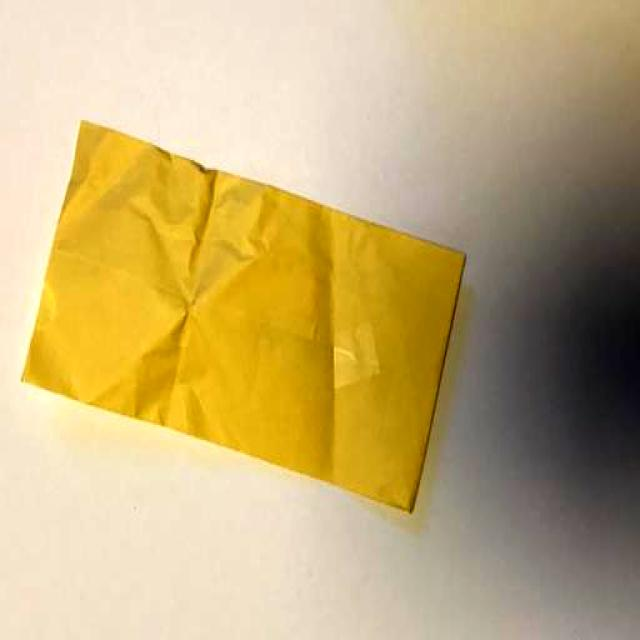Paper: (17, 114, 473, 521)
